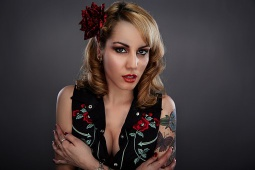female: (99, 22, 155, 95)
